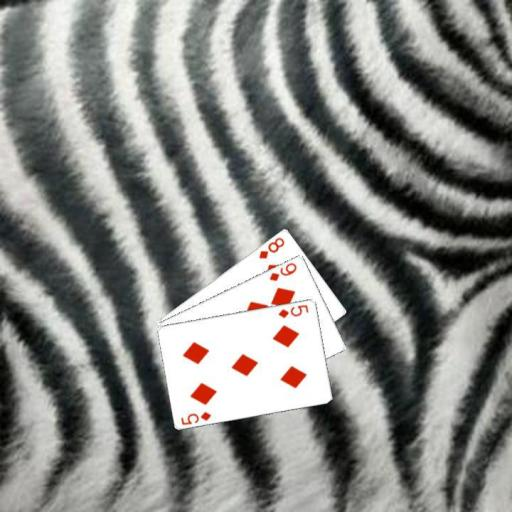5D: (275, 302, 310, 320), (178, 408, 213, 426)
8D: (255, 234, 286, 260)
9D: (266, 259, 299, 282)
